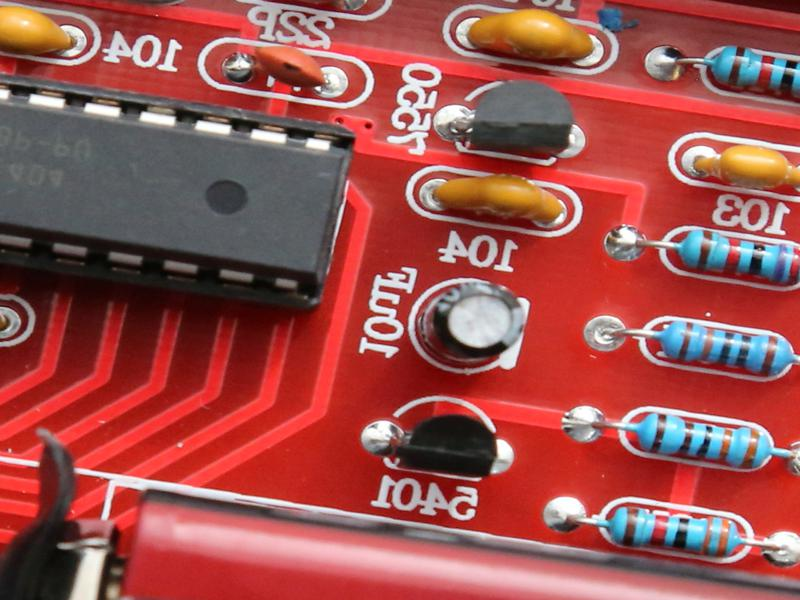Capacitor: (414, 279, 531, 367)
Resistor: (669, 219, 800, 296), (628, 406, 776, 473), (649, 317, 800, 380), (602, 498, 750, 561), (696, 36, 800, 103)
